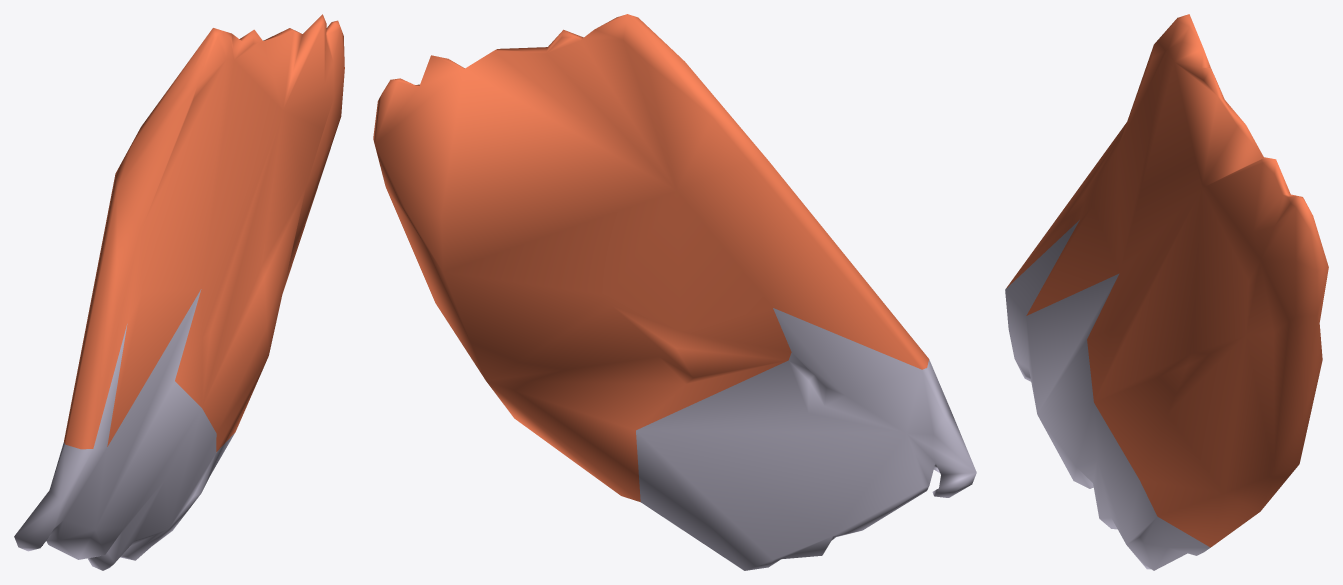
The model's file is Mentalis_left.glb.
3 views of the same model, side by side, from view 1: azimuth 30°, elevation 25°; view 2: azimuth 150°, elevation 25°; view 3: azimuth 270°, elevation 25° (orthographic). The views are drawn at different scales.
Visible parts, largest first — view 1: Mentalis_muscle.l_Generated_Mesh_From_X3D.349; view 2: Mentalis_muscle.l_Generated_Mesh_From_X3D.349; view 3: Mentalis_muscle.l_Generated_Mesh_From_X3D.349.
Part boxes in pixels (x1,y1,x2,y2): Mentalis_muscle.l_Generated_Mesh_From_X3D.349: (14,14,344,570); Mentalis_muscle.l_Generated_Mesh_From_X3D.349: (373,14,976,570); Mentalis_muscle.l_Generated_Mesh_From_X3D.349: (1005,14,1328,570).
Size of the model in its own units: 0.0137 by 0.0148 by 0.00707.
